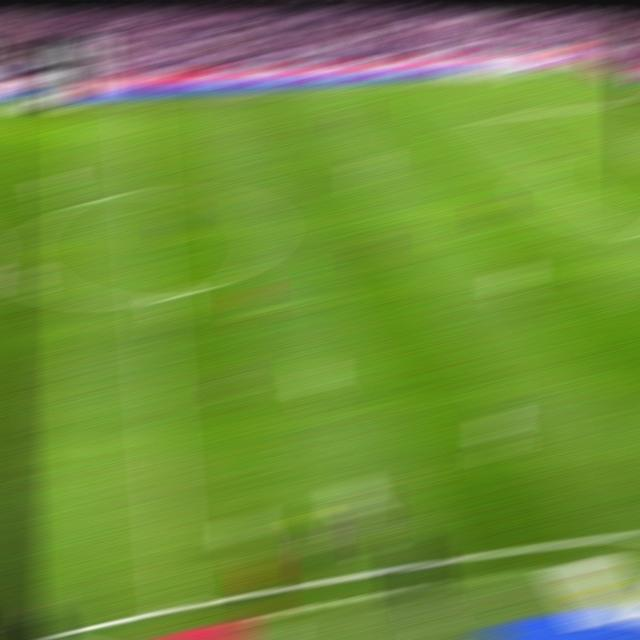bigarea_top_inner: (476, 111, 503, 123)
bottom_arc_area_intersection: (618, 223, 640, 237)
corner: (562, 64, 589, 70)
halfcircle_top: (128, 181, 158, 200)
midline_bottom_intersection: (156, 588, 193, 621)
midline_top_intersection: (122, 97, 149, 108)
top_arc_area_intersection: (531, 155, 558, 166)
